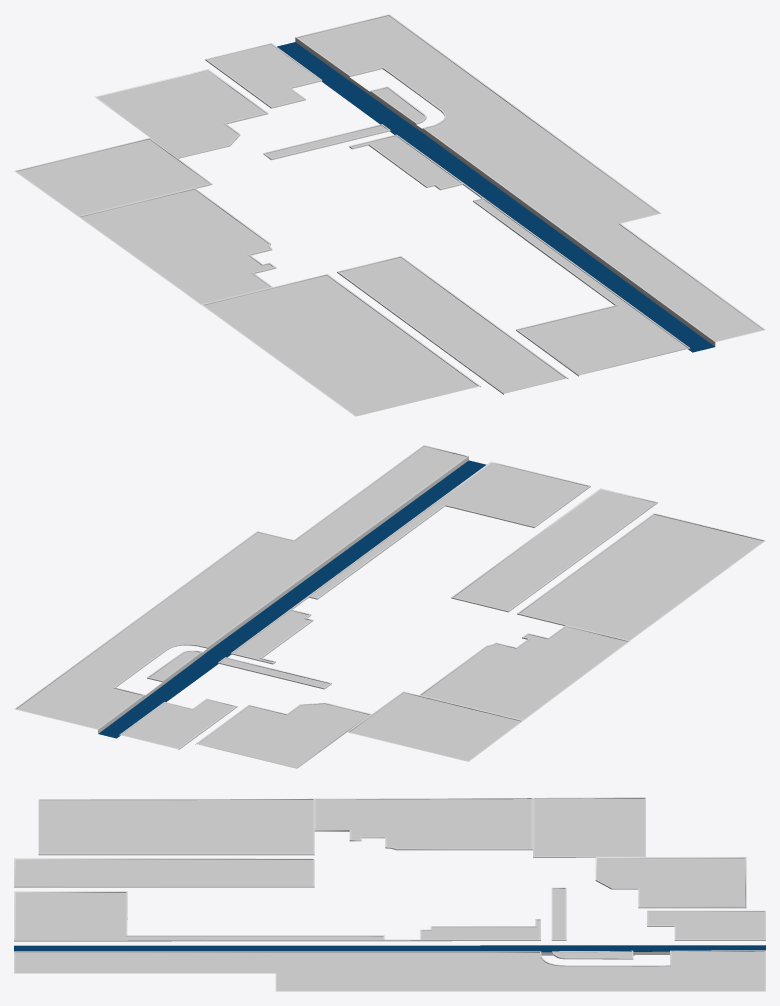
Rendered from bg_floor.fbx.
3 renders of one model, top to bottom at view 1: azimuth 30°, elevation 25°; view 2: azimuth 150°, elevation 25°; view 3: azimuth 270°, elevation 25°, orthographic. The views are drawn at different scales.
Visible parts, largest first — view 1: bg_floor_m; view 2: bg_floor_m; view 3: bg_floor_m.
Part boxes in pixels (x1,y1,x2,y2): bg_floor_m: (14, 14, 765, 416); bg_floor_m: (14, 445, 765, 768); bg_floor_m: (14, 797, 765, 991).
Size of the model in its own units: 27339 by 284 by 44722.
